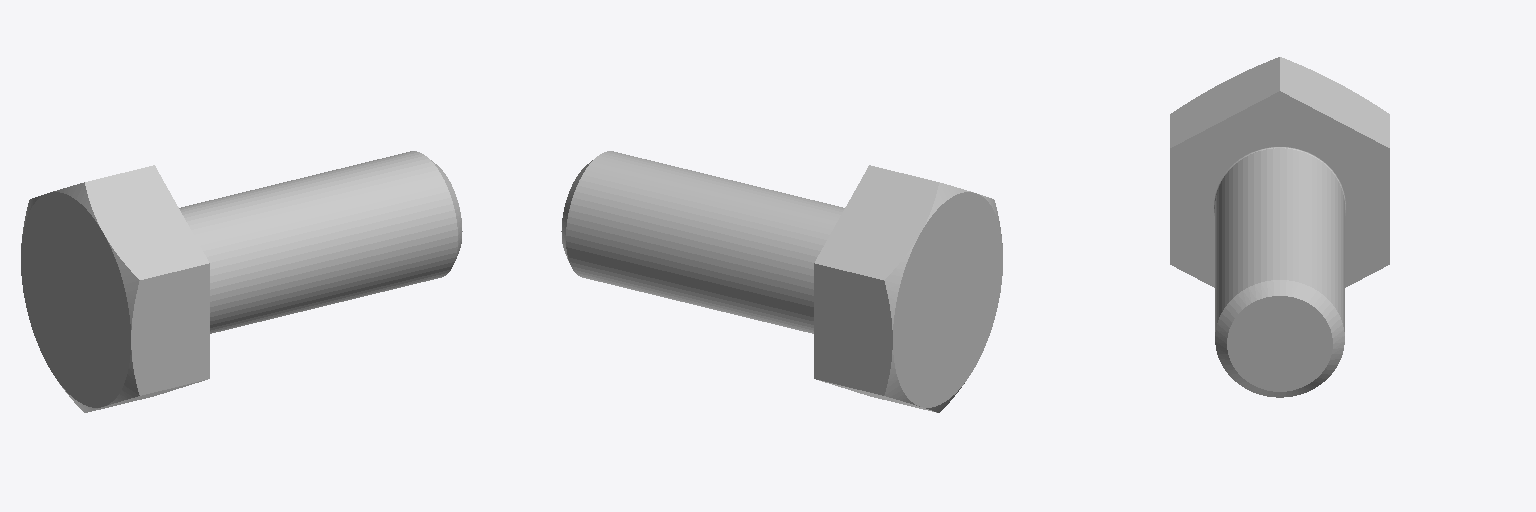
Rendered from Болт M10-6gx25 ГОСТ 7805-70.obj.
The picture shows the model from 3 angles: view 1: azimuth 30°, elevation 25°; view 2: azimuth 150°, elevation 25°; view 3: azimuth 270°, elevation 25°; orthographic projection.
Visible parts, largest first — view 1: Solid1; view 2: Solid1; view 3: Solid1.
Boxes of the visible parts, x1,y1,x2,y2 form: Solid1: [21, 151, 462, 412]; Solid1: [561, 151, 1002, 412]; Solid1: [1170, 57, 1389, 397].
Bounding box in the file's own units: 32 × 19.63 × 17.